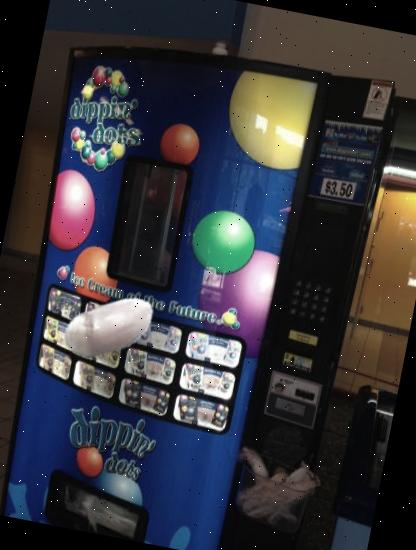Hazelnut: (52, 270, 166, 384)
